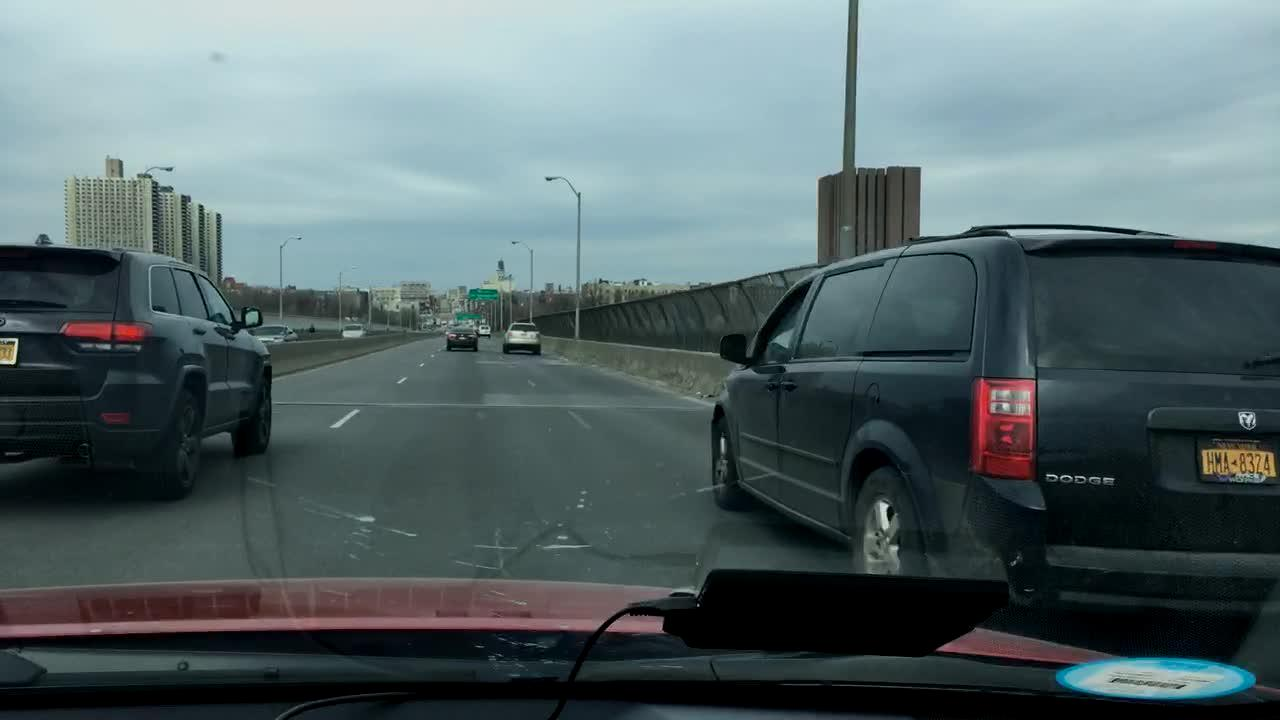ram: (1231, 406, 1262, 439)
